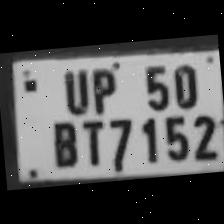0: (164, 58, 202, 109)
1: (132, 109, 162, 166)
2: (187, 106, 220, 162)
5: (136, 61, 172, 112), (156, 108, 190, 162)
7: (101, 112, 135, 170)
B: (45, 114, 80, 167)
P: (84, 62, 119, 112)
T: (74, 113, 106, 167)
U: (55, 63, 92, 114)
